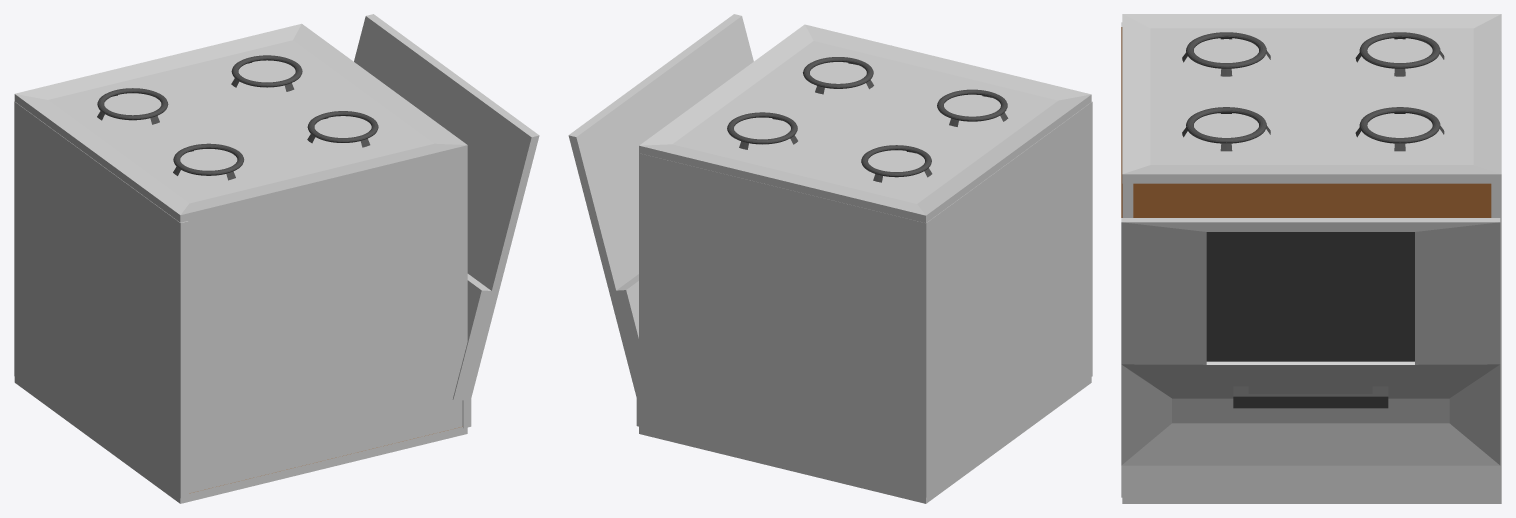
File: Plita.fbx
3 renders of one model, left to right at view 1: azimuth 30°, elevation 25°; view 2: azimuth 150°, elevation 25°; view 3: azimuth 270°, elevation 25°, orthographic. The views are drawn at different scales.
Parts seen in each view (by area): view 1: Cube.005; view 2: Cube.005; view 3: Cube.005.
Part boxes in pixels (box(x1,y1,x2,y2)): Cube.005: box(14, 14, 539, 503); Cube.005: box(568, 14, 1092, 503); Cube.005: box(1121, 14, 1501, 503).
Size of the model in its own units: 326 by 256 by 262.
